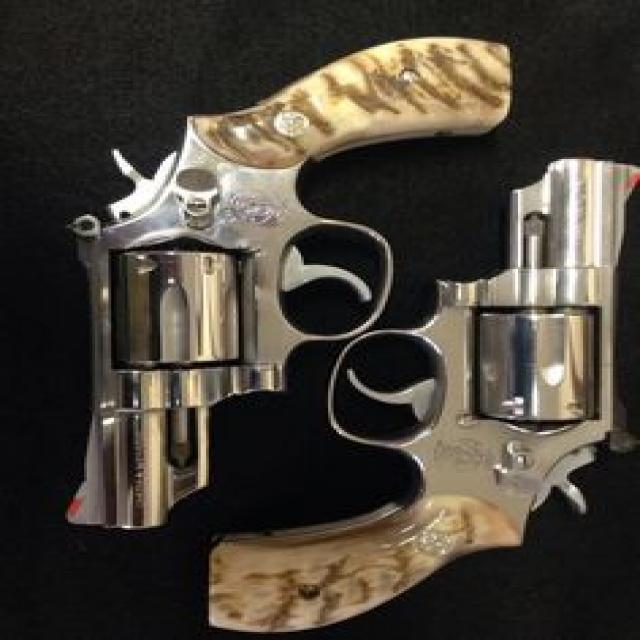revolver: (3, 0, 640, 639)
